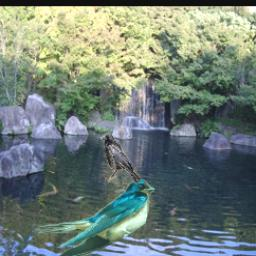Crow: (102, 133, 141, 184)
Swallow: (36, 178, 156, 256)
